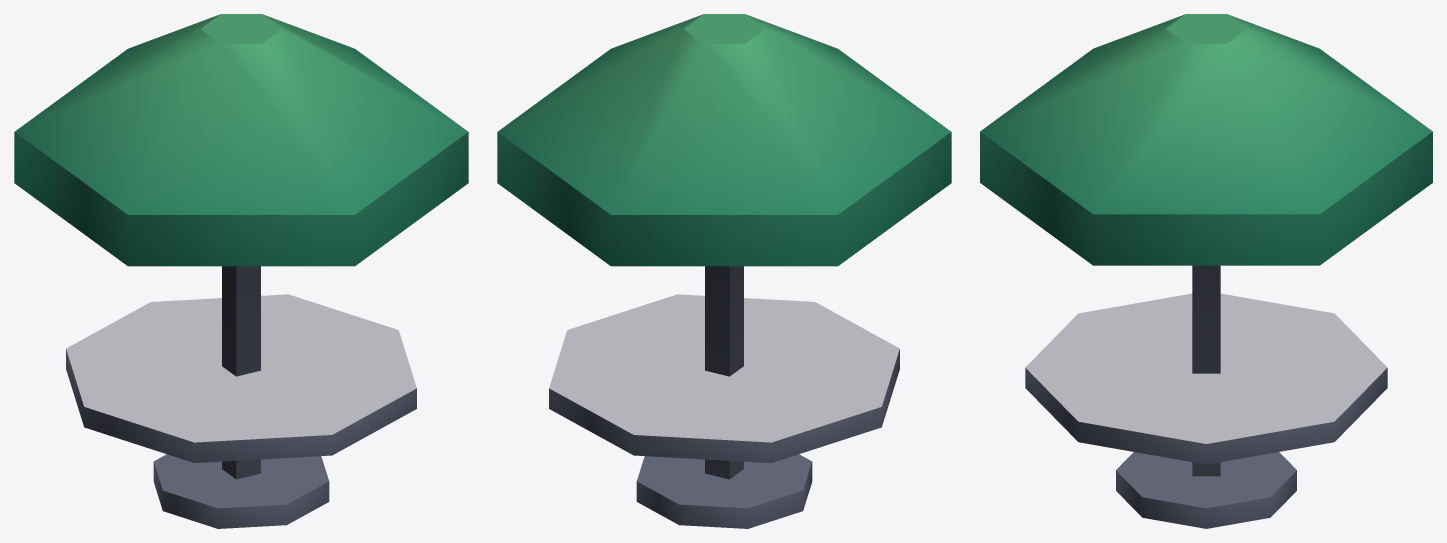
Rendered from detail-parasol-a.glb.
3 views of the same model, side by side, from view 1: azimuth 30°, elevation 25°; view 2: azimuth 150°, elevation 25°; view 3: azimuth 270°, elevation 25° (orthographic).
Visible parts, largest first — view 1: detail-parasol-a; view 2: detail-parasol-a; view 3: detail-parasol-a.
Boxes of the visible parts, left/top/right/bottom form: detail-parasol-a: left=14, top=14, right=468, bottom=528; detail-parasol-a: left=497, top=14, right=951, bottom=528; detail-parasol-a: left=980, top=14, right=1432, bottom=528.
Size of the model in its own units: 0.3464 by 0.45 by 0.4.
